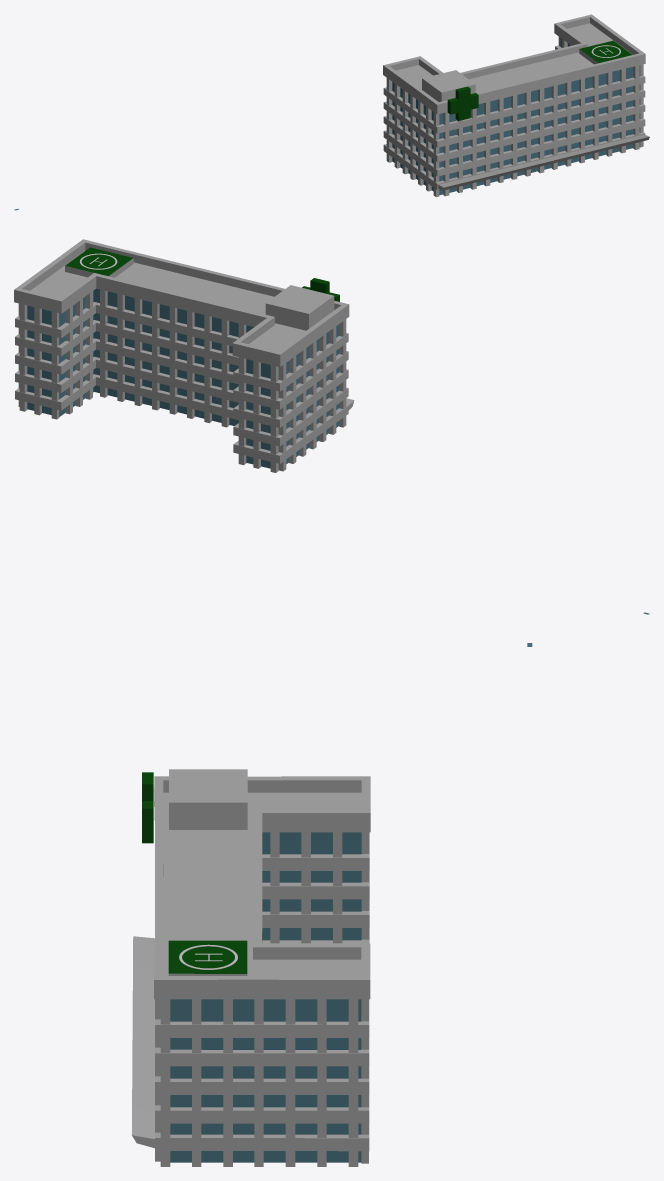
The model's file is Hospital.fbx.
3 views of the same model, one above another, from view 1: azimuth 30°, elevation 25°; view 2: azimuth 150°, elevation 25°; view 3: azimuth 270°, elevation 25° (orthographic). The views are drawn at different scales.
Parts seen in each view (by area): view 1: Cube.002, Cube; view 2: Cube.002; view 3: Cube.002, Cube.
Boxes of the visible parts, x1=… form: Cube.002: x1=14, y1=14, x2=649, y2=210; Cube: x1=447, y1=86, x2=478, y2=120; Cube.002: x1=14, y1=239, x2=649, y2=614; Cube.002: x1=131, y1=643, x2=532, y2=1166; Cube: x1=142, y1=772, x2=153, y2=843.
Bounding box in the file's own units: 7924 × 1476 × 2556.
